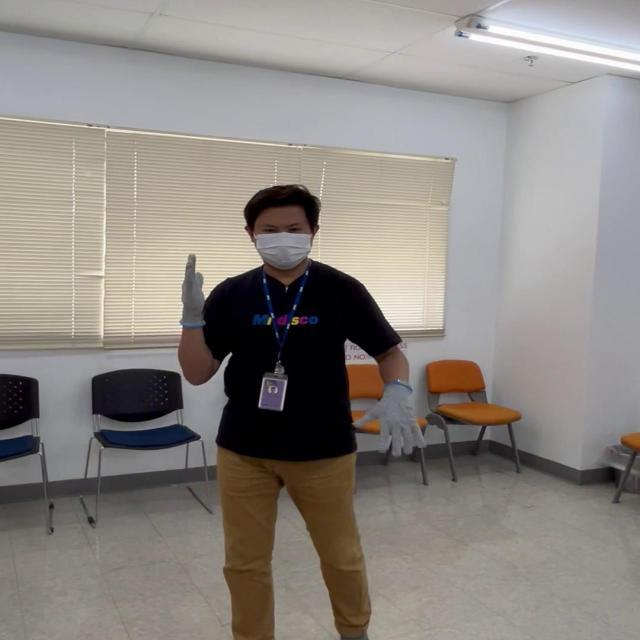gloved_hand: (351, 376, 434, 460), (172, 256, 219, 328)
